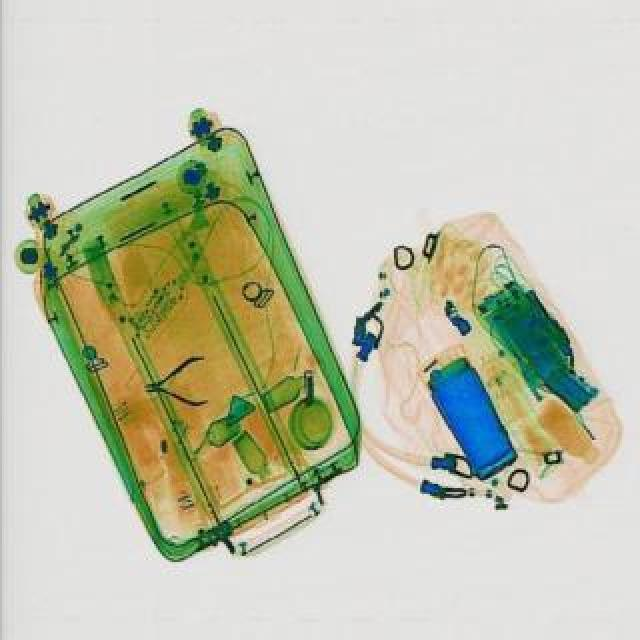wrench: (144, 354, 208, 404)
